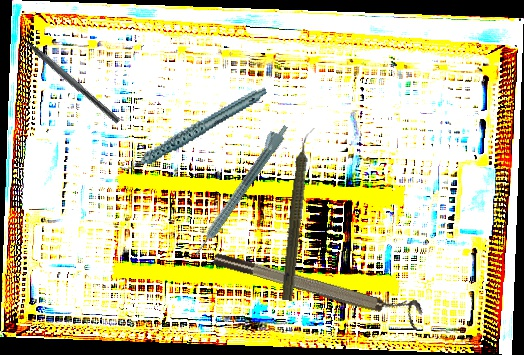Chopper: (10, 23, 127, 124)
Fixation Ring: (211, 240, 426, 331)
Handpiece: (109, 86, 277, 174), (186, 119, 291, 259), (278, 126, 318, 302)
